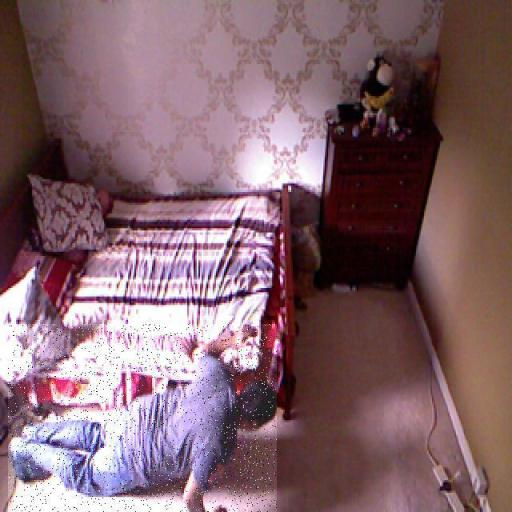Fall: (8, 324, 277, 512)
